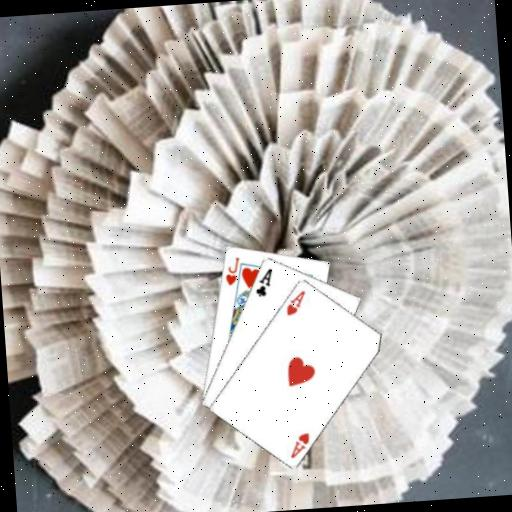AC: (252, 265, 276, 298)
AH: (286, 429, 313, 460), (282, 287, 308, 318)
JH: (222, 254, 243, 288)
